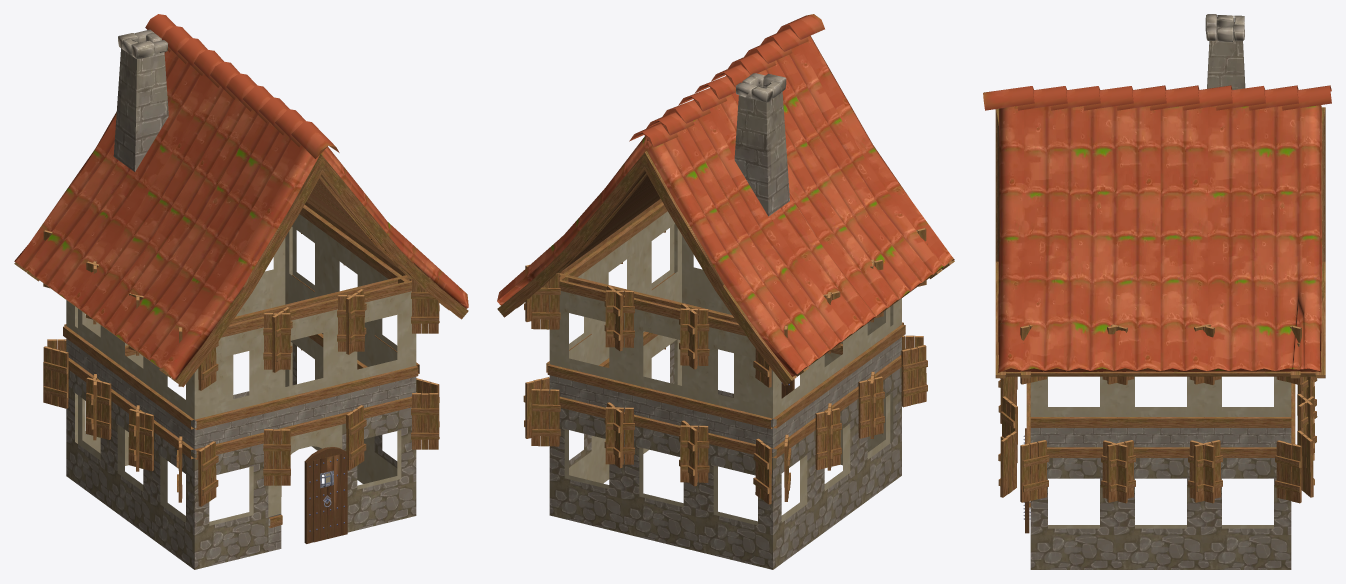
The model's file is MerchantHouse.gltf.
3 renders of one model, left to right at view 1: azimuth 30°, elevation 25°; view 2: azimuth 150°, elevation 25°; view 3: azimuth 270°, elevation 25°, orthographic.
Visible parts, largest first — view 1: Roof_RoundTiles_6x6, Wall_Plaster_Window_Wide_Flat (×10), Wall_UnevenBrick_Window_Wide_Flat (×9), WindowShutters_Wide_Flat_Open (×8), Prop_Chimney, Door_2_Round, Wall_Plaster_Door_Round; view 2: Roof_RoundTiles_6x6, Wall_UnevenBrick_Window_Wide_Flat (×10), Wall_Plaster_Window_Wide_Flat (×10), WindowShutters_Wide_Flat_Open (×10), Prop_Chimney; view 3: Roof_RoundTiles_6x6, Wall_UnevenBrick_Window_Wide_Flat (×3), Wall_Plaster_Window_Wide_Flat (×3), WindowShutters_Wide_Flat_Open (×9), Prop_Chimney.
Part boxes in pixels (bbox=[...]): Roof_RoundTiles_6x6: bbox=[14, 14, 468, 387]; Wall_Plaster_Window_Wide_Flat (×10): bbox=[63, 201, 419, 453]; Wall_UnevenBrick_Window_Wide_Flat (×9): bbox=[66, 333, 417, 569]; WindowShutters_Wide_Flat_Open (×8): bbox=[43, 277, 438, 506]; Prop_Chimney: bbox=[113, 29, 168, 171]; Door_2_Round: bbox=[304, 447, 347, 543]; Wall_Plaster_Door_Round: bbox=[268, 413, 344, 551]; Roof_RoundTiles_6x6: bbox=[497, 14, 954, 385]; Wall_UnevenBrick_Window_Wide_Flat (×10): bbox=[549, 331, 901, 569]; Wall_Plaster_Window_Wide_Flat (×10): bbox=[546, 199, 905, 452]; WindowShutters_Wide_Flat_Open (×10): bbox=[523, 273, 927, 504]; Prop_Chimney: bbox=[734, 73, 789, 216]; Roof_RoundTiles_6x6: bbox=[983, 85, 1331, 378]; Wall_UnevenBrick_Window_Wide_Flat (×3): bbox=[1030, 447, 1291, 569]; Wall_Plaster_Window_Wide_Flat (×3): bbox=[1030, 376, 1291, 447]; WindowShutters_Wide_Flat_Open (×9): bbox=[998, 324, 1317, 503]; Prop_Chimney: bbox=[1205, 14, 1245, 89].
Bounding box in the file's own units: 8.25 × 11.68 × 8.03.
7 materials, 7 textured.
